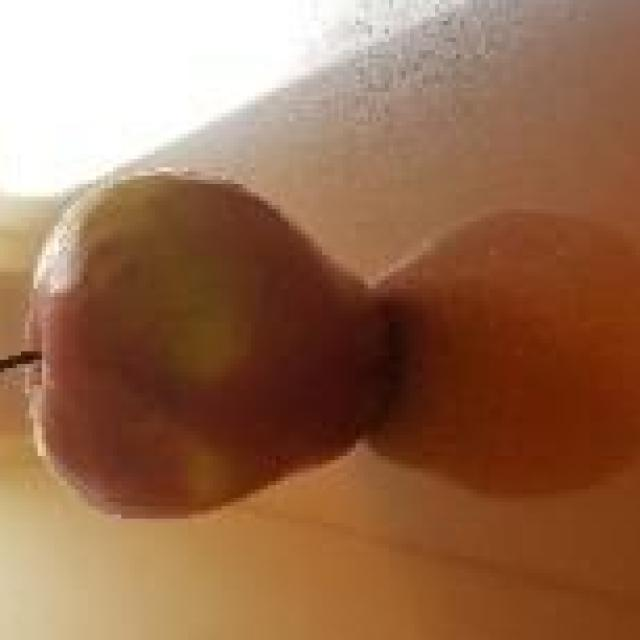Good_Apple 10-21 days: (42, 174, 385, 513)
